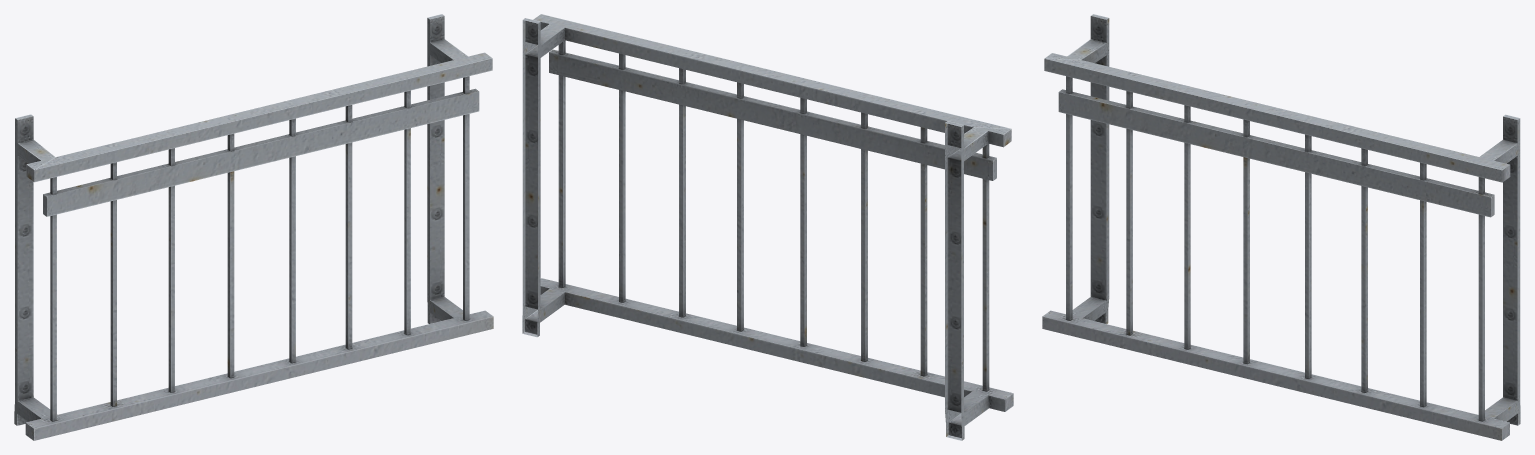
Rendered from julietbalcony.fbx.
3 views of the same model, side by side, from view 1: azimuth 30°, elevation 25°; view 2: azimuth 150°, elevation 25°; view 3: azimuth 330°, elevation 25° (orthographic). The views are drawn at different scales.
Visible parts, largest first — view 1: julietBalconyMeshff; view 2: julietBalconyMeshff; view 3: julietBalconyMeshff.
Boxes of the visible parts, left/top/right/bottom form: julietBalconyMeshff: left=14, top=14, right=493, bottom=440; julietBalconyMeshff: left=522, top=14, right=1013, bottom=440; julietBalconyMeshff: left=1042, top=14, right=1520, bottom=440.
Size of the model in its own units: 165 by 105 by 21.66.
